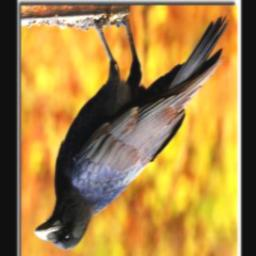Crow: (34, 16, 230, 255)
